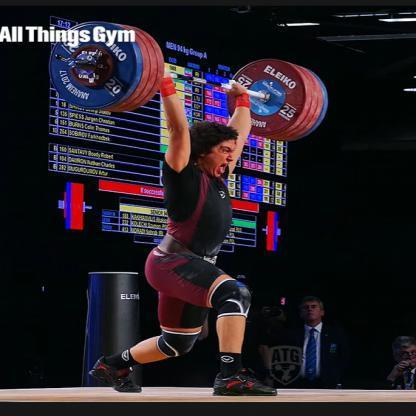Barbell: (61, 55, 84, 74)
